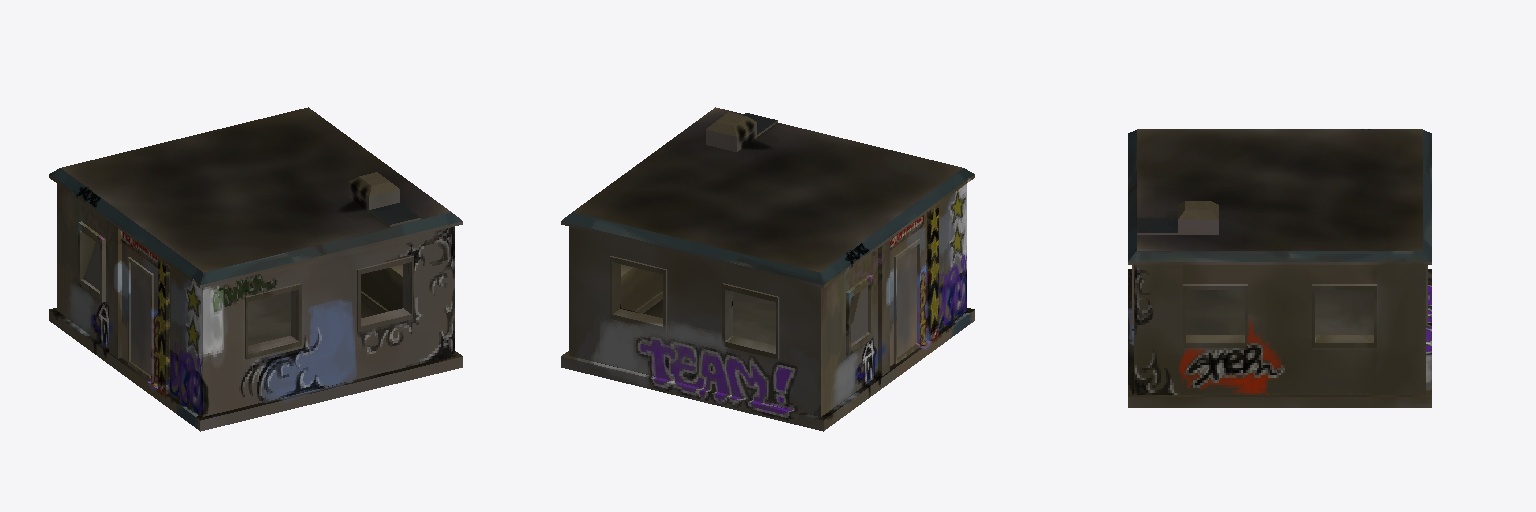
3 views of the same model, side by side, from view 1: azimuth 30°, elevation 25°; view 2: azimuth 150°, elevation 25°; view 3: azimuth 270°, elevation 25° (orthographic).
Parts seen in each view (by area): view 1: Wall4.002; view 2: Wall4.002; view 3: Wall4.002.
Part boxes in pixels (bbox=[...]): Wall4.002: bbox=[49, 107, 462, 431]; Wall4.002: bbox=[561, 107, 974, 431]; Wall4.002: bbox=[1128, 129, 1431, 407].
Bounding box in the file's own units: 12.5 × 8 × 12.5.
1 materials, 1 textured.